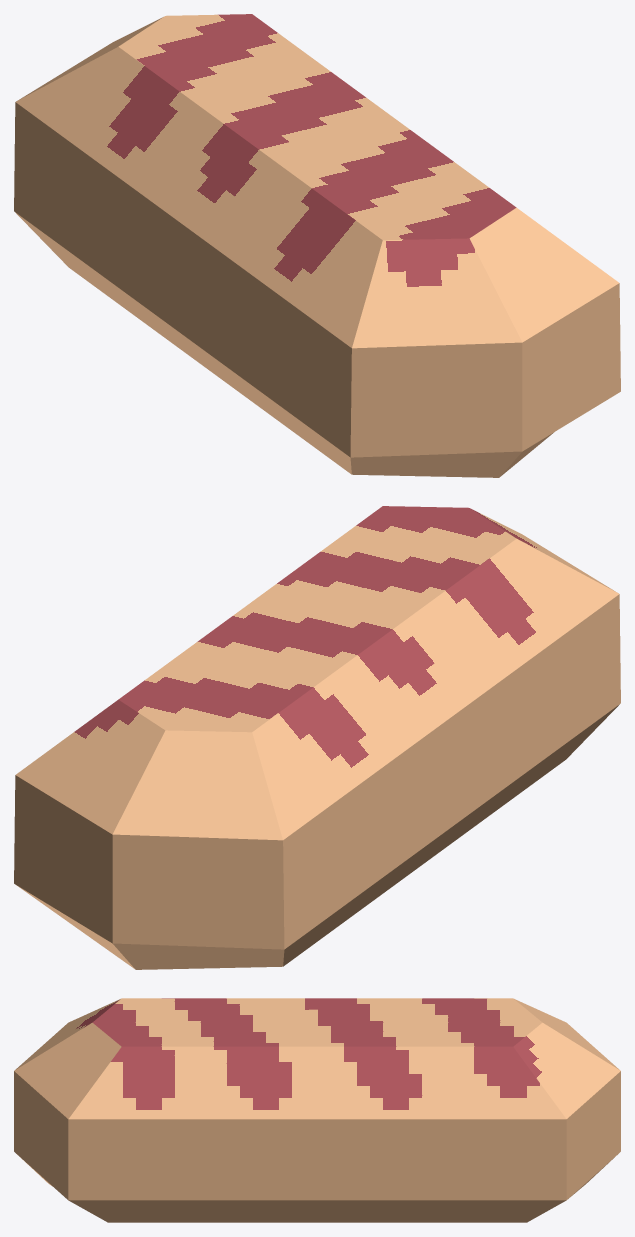
Rendered from Bread.fbx.
3 renders of one model, top to bottom at view 1: azimuth 30°, elevation 25°; view 2: azimuth 150°, elevation 25°; view 3: azimuth 270°, elevation 25°, orthographic. The views are drawn at different scales.
Parts seen in each view (by area): view 1: Bread; view 2: Bread; view 3: Bread.
Part boxes in pixels (x1=…): Bread: x1=14, y1=14, x2=620, y2=477; Bread: x1=14, y1=506, x2=620, y2=969; Bread: x1=14, y1=998, x2=620, y2=1222.
Size of the model in its own units: 0.1299 by 0.1 by 0.3411.
Materials: 1 (1 with a texture image).
